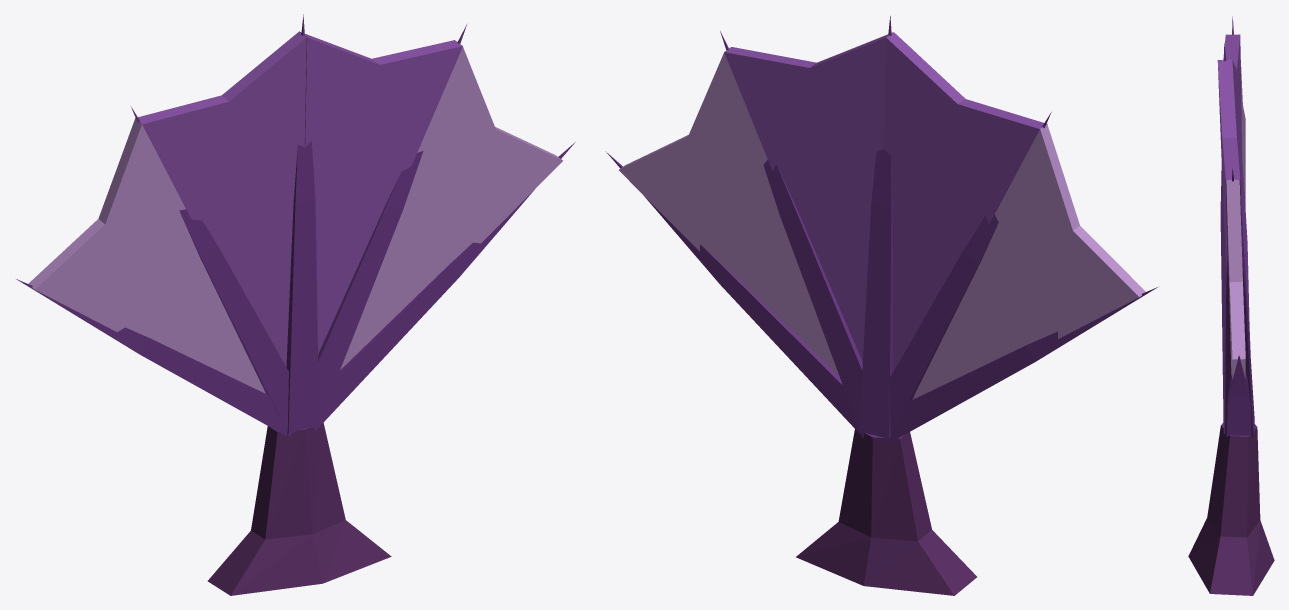
The model's file is coral_fan.gltf.
The picture shows the model from 3 angles, left to right: view 1: azimuth 30°, elevation 25°; view 2: azimuth 150°, elevation 25°; view 3: azimuth 270°, elevation 25°; orthographic projection. The views are drawn at different scales.
Parts seen in each view (by area): view 1: coral_fan; view 2: coral_fan; view 3: coral_fan.
Part boxes in pixels (x1,y1,x2,y2): coral_fan: (16,14,575,595); coral_fan: (605,16,1157,595); coral_fan: (1188,16,1274,595).
Size of the model in its own units: 0.8155 by 0.7764 by 0.1168.
